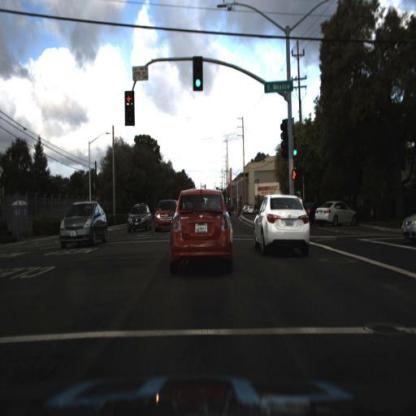car: (171, 188, 235, 273), (252, 192, 312, 259), (59, 200, 110, 251), (315, 201, 359, 228), (154, 196, 181, 234), (125, 203, 152, 235)
trafficLight: (193, 56, 204, 92), (292, 136, 300, 158)
trafficLight-RedLeft: (126, 89, 138, 125)
